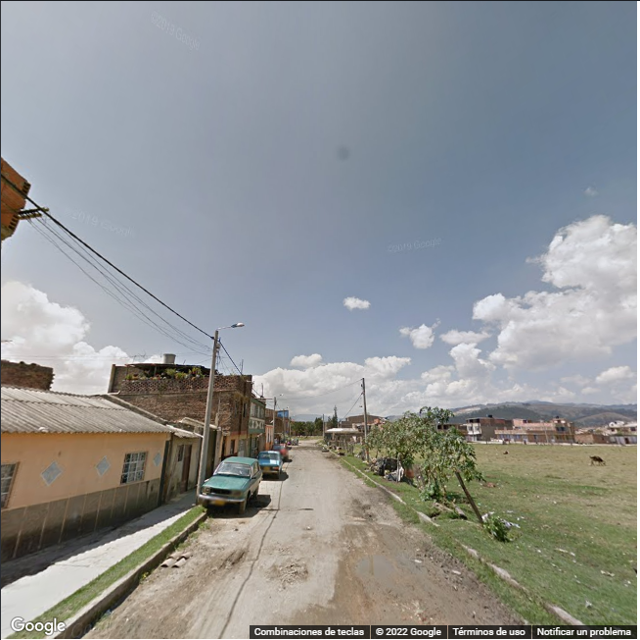D40: (352, 548, 398, 581), (271, 554, 314, 586)
